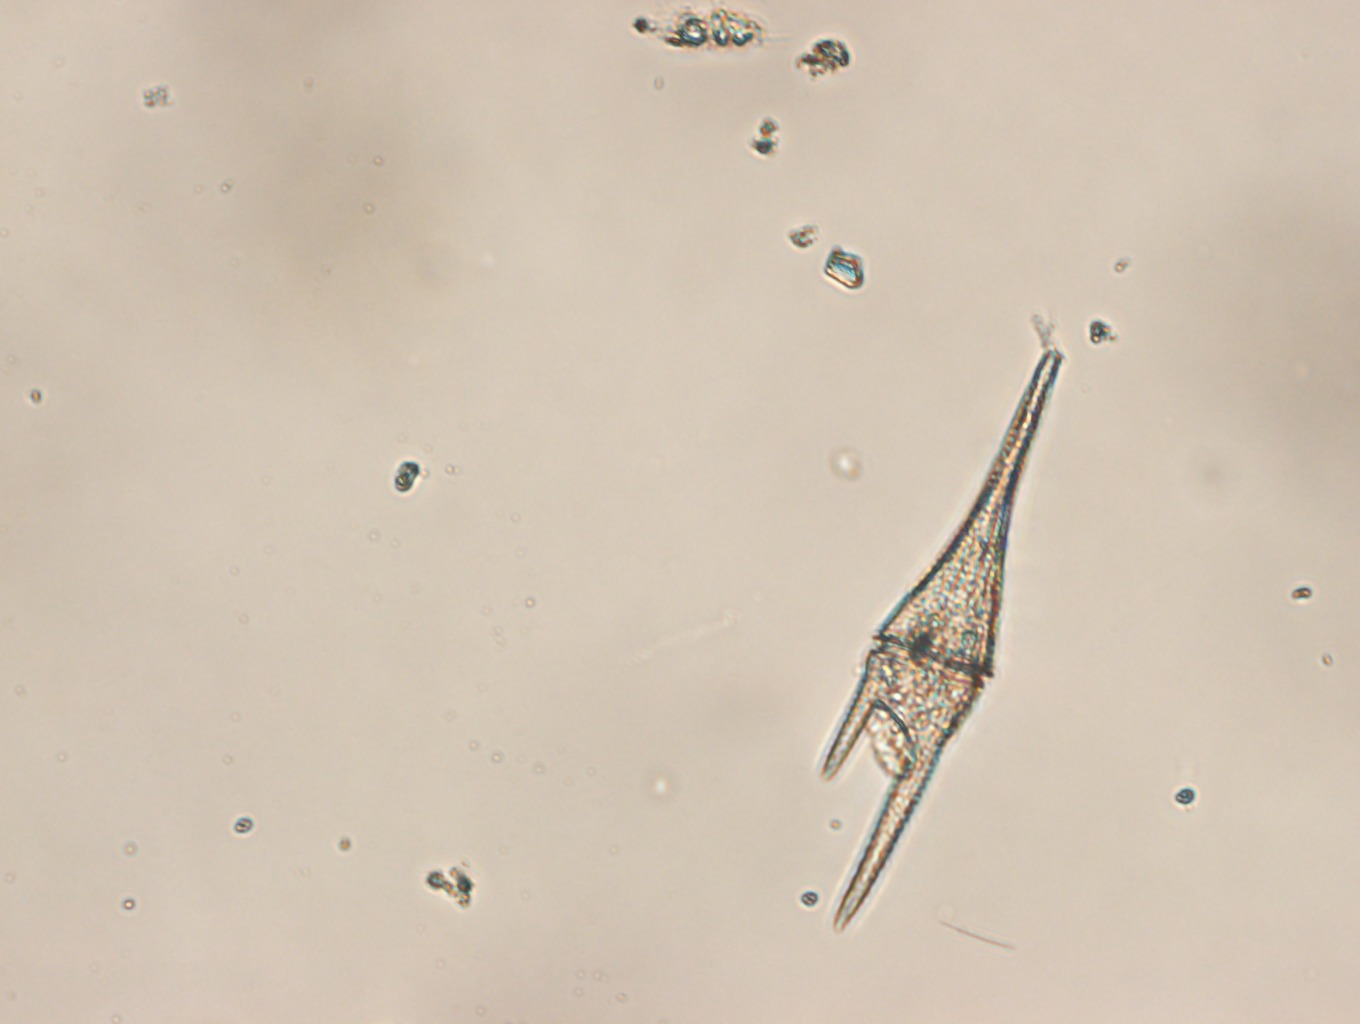ceratium furca: (820, 344, 1064, 936)
